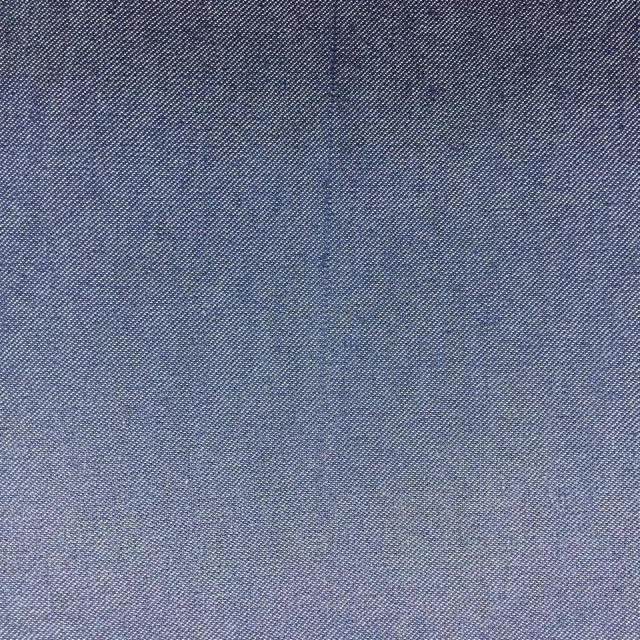Line: (310, 1, 341, 524)
